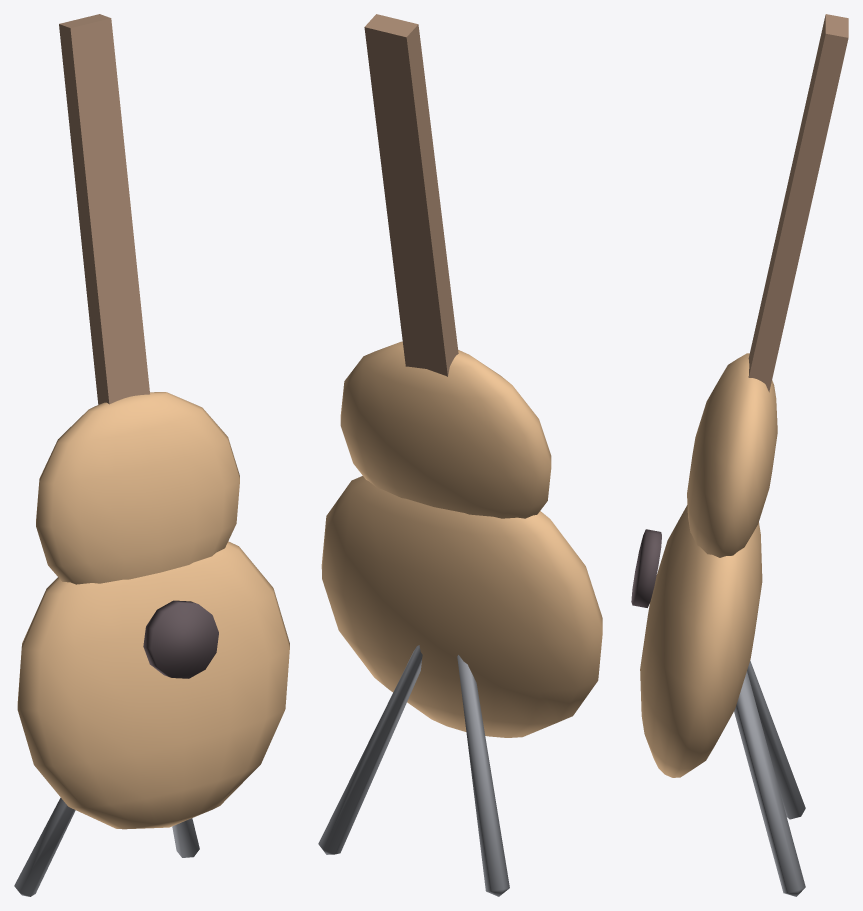
File: violao_suporte.glb
3 renders of one model, left to right at view 1: azimuth 30°, elevation 25°; view 2: azimuth 150°, elevation 25°; view 3: azimuth 270°, elevation 25°, orthographic. The views are drawn at different scales.
Parts seen in each view (by area): view 1: violao_suporte; view 2: violao_suporte; view 3: violao_suporte.
Boxes of the visible parts, x1,y1,x2,y2 form: violao_suporte: (14, 14, 289, 896); violao_suporte: (318, 14, 602, 896); violao_suporte: (631, 14, 848, 896).
Bounding box in the file's own units: 0.4 × 1.18 × 0.2791.
